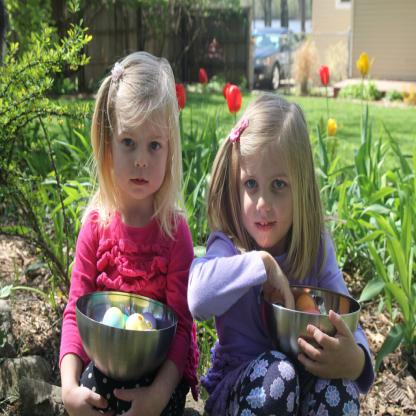Egg: (101, 305, 157, 329)
